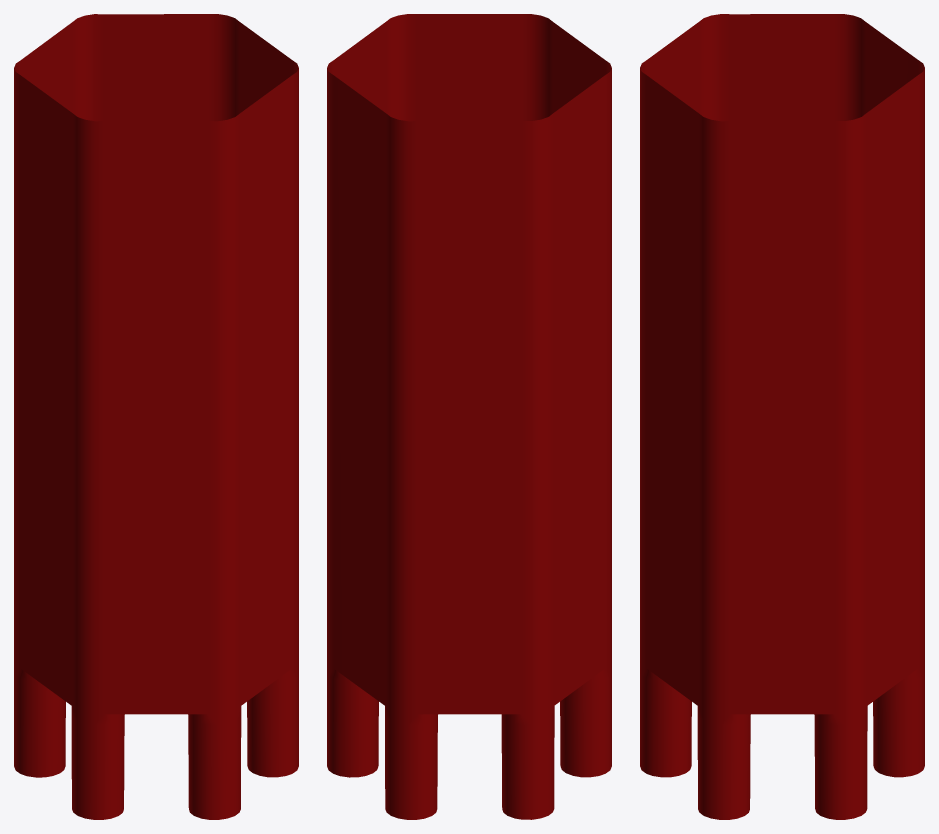
File: Locker Room Floor.fbx
The picture shows the model from 3 angles, left to right: view 1: azimuth 30°, elevation 25°; view 2: azimuth 150°, elevation 25°; view 3: azimuth 270°, elevation 25°; orthographic projection.
Visible parts, largest first — view 1: pasted__Locekr_RoomFLoor; view 2: pasted__Locekr_RoomFLoor; view 3: pasted__Locekr_RoomFLoor.
Boxes of the visible parts, x1,y1,x2,y2 form: pasted__Locekr_RoomFLoor: (14, 14, 298, 819); pasted__Locekr_RoomFLoor: (327, 14, 611, 819); pasted__Locekr_RoomFLoor: (640, 14, 924, 819).
Size of the model in its own units: 2180 by 6624 by 2447.
